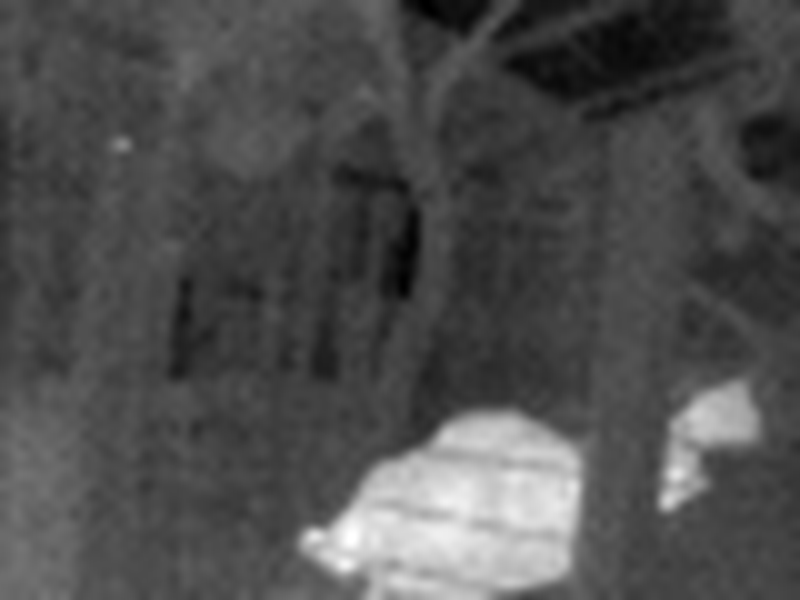elephant: (276, 385, 766, 597)
